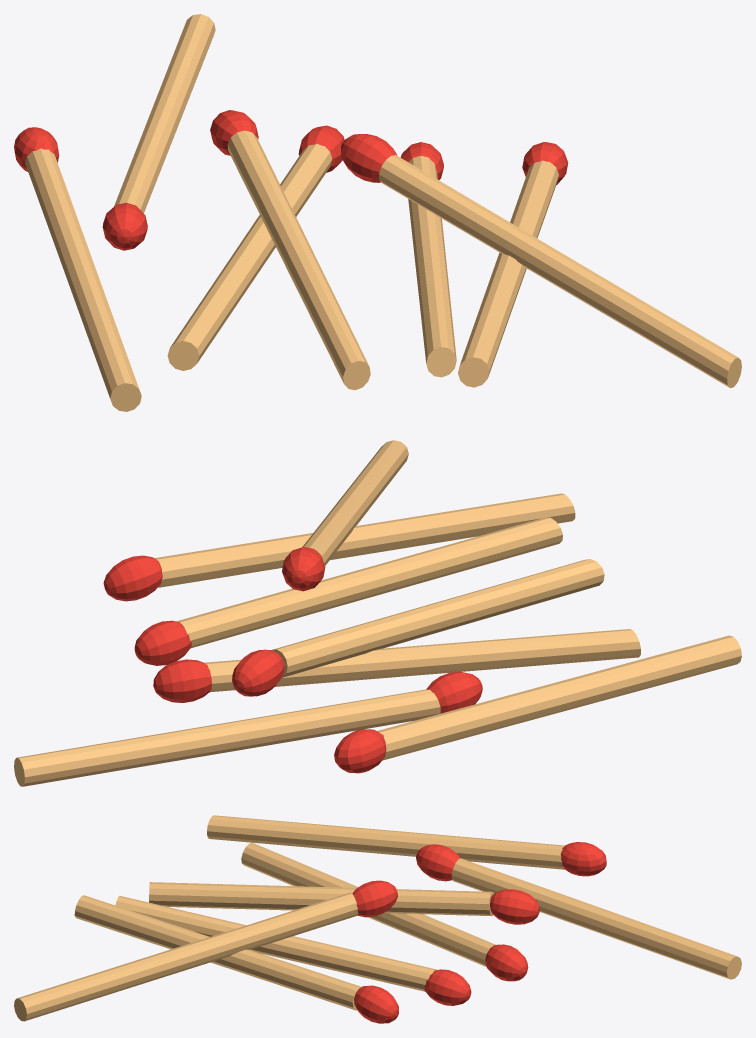
The picture shows the model from 3 angles, top to bottom: view 1: azimuth 30°, elevation 25°; view 2: azimuth 150°, elevation 25°; view 3: azimuth 270°, elevation 25°; orthographic projection. The views are drawn at different scales.
Parts seen in each view (by area): view 1: mesh_113979583, mesh_1786069724, mesh_1801973270, mesh_218291193, mesh_858192738, mesh_2082705181, mesh_400863764, mesh_1711586118, mesh_1688091656, mesh_1299100225, mesh_1493469098, mesh_1037073244 (+2 smaller); view 2: mesh_2082705181, mesh_400863764, mesh_1801973270, mesh_858192738, mesh_218291193, mesh_1786069724, mesh_113979583, mesh_1375219461, mesh_1037073244, mesh_963163408, mesh_1299100225, mesh_1493469098 (+2 smaller); view 3: mesh_113979583, mesh_1801973270, mesh_2082705181, mesh_1786069724, mesh_858192738, mesh_400863764, mesh_218291193, mesh_1299100225, mesh_1375219461, mesh_963163408, mesh_1493469098, mesh_1711586118 (+2 smaller).
Boxes of the visible parts, bbox=[...] form: mesh_113979583: bbox=[379, 155, 741, 387]; mesh_1786069724: bbox=[227, 130, 370, 390]; mesh_1801973270: bbox=[25, 148, 141, 411]; mesh_218291193: bbox=[167, 143, 332, 370]; mesh_858192738: bbox=[458, 160, 558, 387]; mesh_2082705181: bbox=[114, 14, 215, 213]; mesh_400863764: bbox=[408, 156, 456, 377]; mesh_1711586118: bbox=[341, 134, 397, 182]; mesh_1688091656: bbox=[102, 202, 147, 250]; mesh_1299100225: bbox=[210, 110, 258, 155]; mesh_1493469098: bbox=[14, 127, 59, 171]; mesh_1037073244: bbox=[298, 125, 344, 172]; mesh_2082705181: bbox=[14, 689, 440, 786]; mesh_400863764: bbox=[176, 517, 562, 648]; mesh_1801973270: bbox=[377, 635, 741, 760]; mesh_858192738: bbox=[154, 493, 575, 587]; mesh_218291193: bbox=[204, 629, 640, 692]; mesh_1786069724: bbox=[272, 559, 604, 677]; mesh_113979583: bbox=[302, 440, 408, 565]; mesh_1375219461: bbox=[103, 555, 162, 601]; mesh_1037073244: bbox=[153, 659, 211, 702]; mesh_963163408: bbox=[134, 620, 191, 665]; mesh_1299100225: bbox=[232, 649, 284, 696]; mesh_1493469098: bbox=[334, 729, 386, 773]; mesh_113979583: bbox=[14, 892, 358, 1021]; mesh_1801973270: bbox=[207, 815, 564, 869]; mesh_2082705181: bbox=[451, 858, 741, 979]; mesh_1786069724: bbox=[149, 882, 494, 916]; mesh_858192738: bbox=[74, 895, 361, 1010]; mesh_400863764: bbox=[115, 896, 437, 991]; mesh_218291193: bbox=[241, 842, 495, 966]; mesh_1299100225: bbox=[490, 889, 539, 924]; mesh_1375219461: bbox=[354, 985, 398, 1023]; mesh_963163408: bbox=[424, 969, 471, 1005]; mesh_1493469098: bbox=[560, 842, 606, 876]; mesh_1711586118: bbox=[352, 880, 397, 917].
Bounding box in the file's own units: 40.96 × 7.96 × 59.82.
